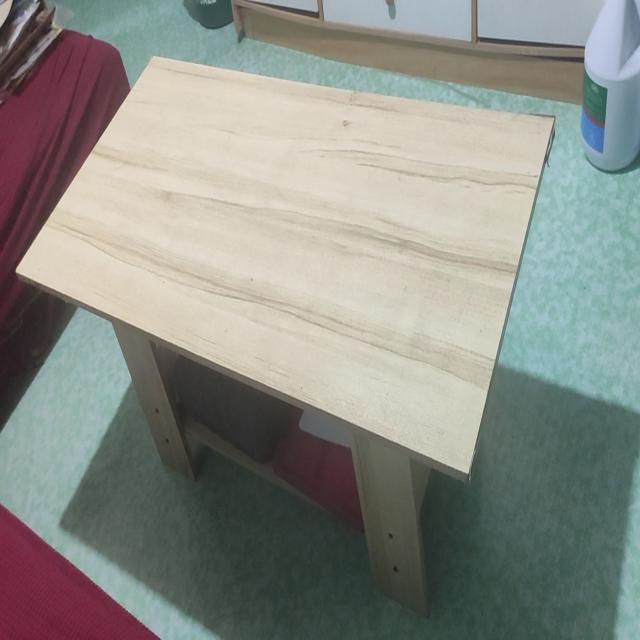table: (16, 54, 555, 602)
